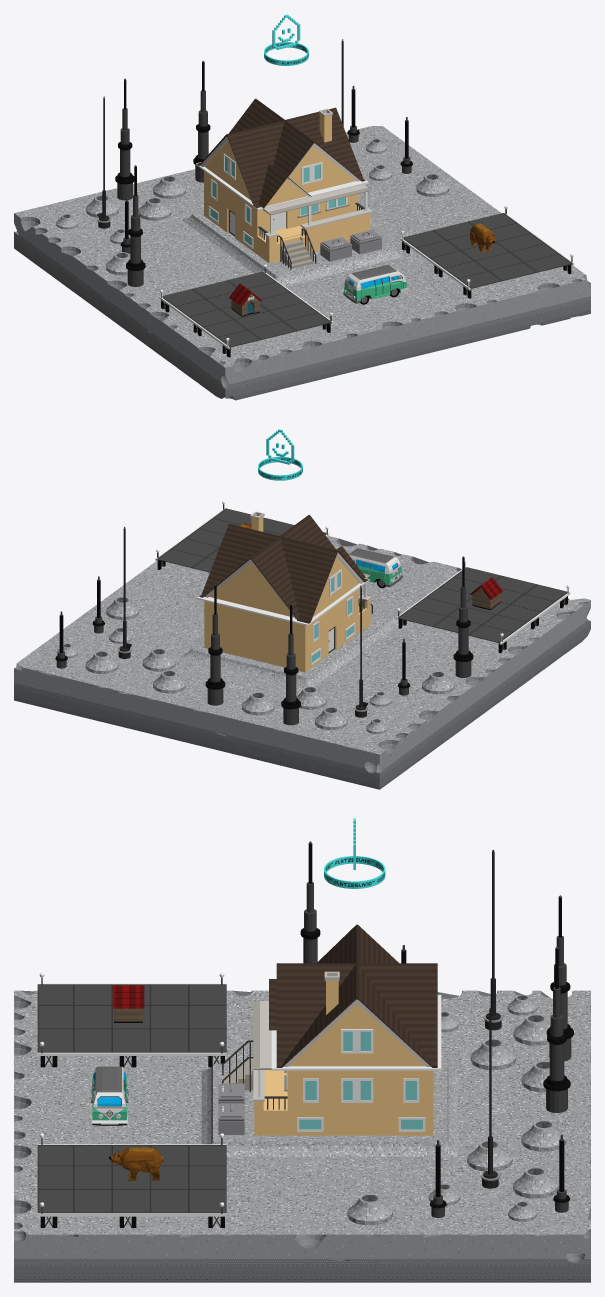
The picture shows the model from 3 angles, top to bottom: view 1: azimuth 30°, elevation 25°; view 2: azimuth 150°, elevation 25°; view 3: azimuth 270°, elevation 25°; orthographic projection. The views are drawn at different scales.
Parts seen in each view (by area): view 1: Cube.027, Cube.235, Cube.026, Cube.025, Cube.028, VEHICLES_VAN, Cylinder.021, Cylinder.020, Cylinder.017, TYPE_PREMIUM, OBJRANDOM_DOGHOUSE, Cube.029 (+5 smaller); view 2: Cube.027, Cube.235, Cube.025, Cube.028, Cube.026, VEHICLES_VAN, Cylinder.017, Cylinder.021, Cylinder.020, TYPE_PREMIUM, OBJRANDOM_DOGHOUSE, Cylinder.030 (+8 smaller); view 3: Cube.027, Cube.235, Cube.026, Cube.025, Cube.028, Cylinder.017, VEHICLES_VAN, Cylinder.020, Cylinder.021, ANIMAL_OSO, OBJRANDOM_DOGHOUSE, TYPE_PREMIUM (+12 smaller).
Part boxes in pixels (left/top/right/bottom): Cube.027: left=14, top=126, right=590, bottom=400; Cube.235: left=196, top=98, right=372, bottom=269; Cube.026: left=400, top=205, right=574, bottom=298; Cube.025: left=159, top=264, right=333, bottom=357; Cube.028: left=182, top=211, right=403, bottom=286; VEHICLES_VAN: left=343, top=264, right=407, bottom=304; Cylinder.021: left=126, top=165, right=145, bottom=286; Cylinder.020: left=115, top=78, right=134, bottom=200; Cylinder.017: left=193, top=60, right=210, bottom=182; TYPE_PREMIUM: left=264, top=14, right=308, bottom=65; OBJRANDOM_DOGHOUSE: left=229, top=283, right=261, bottom=316; Cube.029: left=320, top=237, right=351, bottom=261; Cube.027: left=14, top=536, right=590, bottom=789; Cube.235: left=197, top=511, right=372, bottom=672; Cube.025: left=396, top=560, right=570, bottom=653; Cube.028: left=181, top=610, right=398, bottom=688; Cube.026: left=155, top=501, right=329, bottom=572; VEHICLES_VAN: left=348, top=548, right=402, bottom=588; Cylinder.017: left=205, top=583, right=225, bottom=705; Cylinder.021: left=453, top=556, right=473, bottom=677; Cylinder.020: left=281, top=603, right=300, bottom=725; TYPE_PREMIUM: left=258, top=429, right=302, bottom=480; OBJRANDOM_DOGHOUSE: left=470, top=577, right=503, bottom=609; Cylinder.030: left=142, top=648, right=175, bottom=671; Cube.027: left=14, top=990, right=590, bottom=1282; Cube.235: left=222, top=924, right=441, bottom=1135; Cube.026: left=37, top=1133, right=226, bottom=1227; Cube.025: left=37, top=973, right=226, bottom=1067; Cube.028: left=201, top=1063, right=457, bottom=1156; Cylinder.017: left=543, top=946, right=570, bottom=1112; VEHICLES_VAN: left=90, top=1066, right=128, bottom=1125; Cylinder.020: left=546, top=895, right=573, bottom=1061; Cylinder.021: left=300, top=841, right=320, bottom=963; ANIMAL_OSO: left=109, top=1147, right=163, bottom=1180; OBJRANDOM_DOGHOUSE: left=112, top=985, right=144, bottom=1022; TYPE_PREMIUM: left=324, top=818, right=385, bottom=888.
Size of the model in its own units: 4000 by 2681 by 4000.
Materials: 45 (5 with a texture image).
